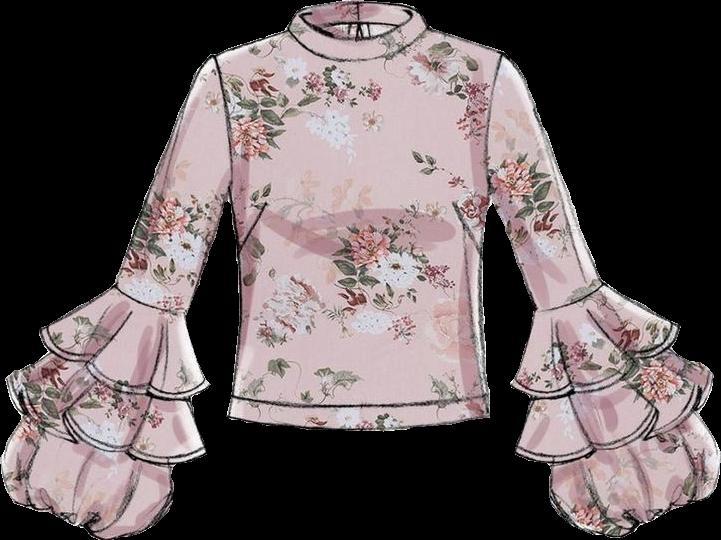Bodice: (215, 2, 502, 428)
Neckline: (229, 389, 490, 411), (283, 28, 431, 66), (294, 8, 418, 43)
Sleeve: (487, 53, 720, 539), (0, 55, 232, 537)
Sleeveline: (483, 52, 508, 201), (210, 55, 234, 197), (110, 282, 190, 315)
Waistline: (5, 377, 208, 466), (511, 380, 717, 463), (36, 326, 212, 401), (506, 325, 682, 399), (228, 407, 492, 428)
